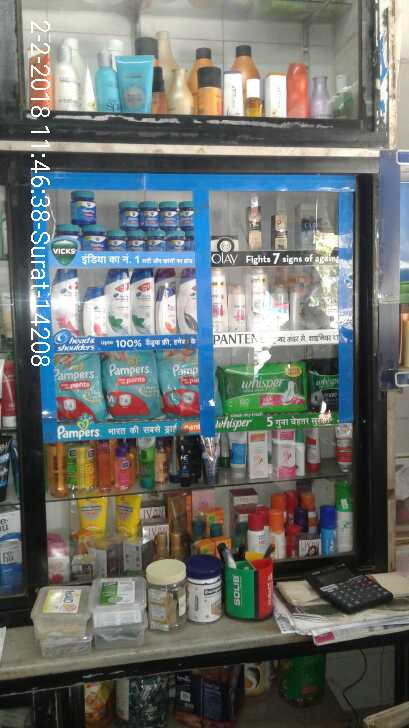beauty: (223, 365, 310, 412), (127, 270, 160, 341), (53, 266, 82, 339), (105, 273, 131, 338), (78, 282, 105, 337)
pharmacy: (46, 189, 197, 253), (98, 355, 163, 417), (54, 351, 106, 424), (156, 352, 208, 418)
